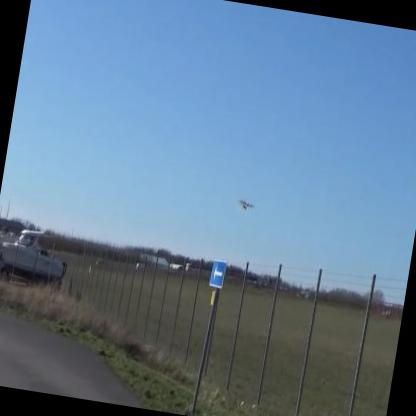plane: (232, 194, 257, 213)
